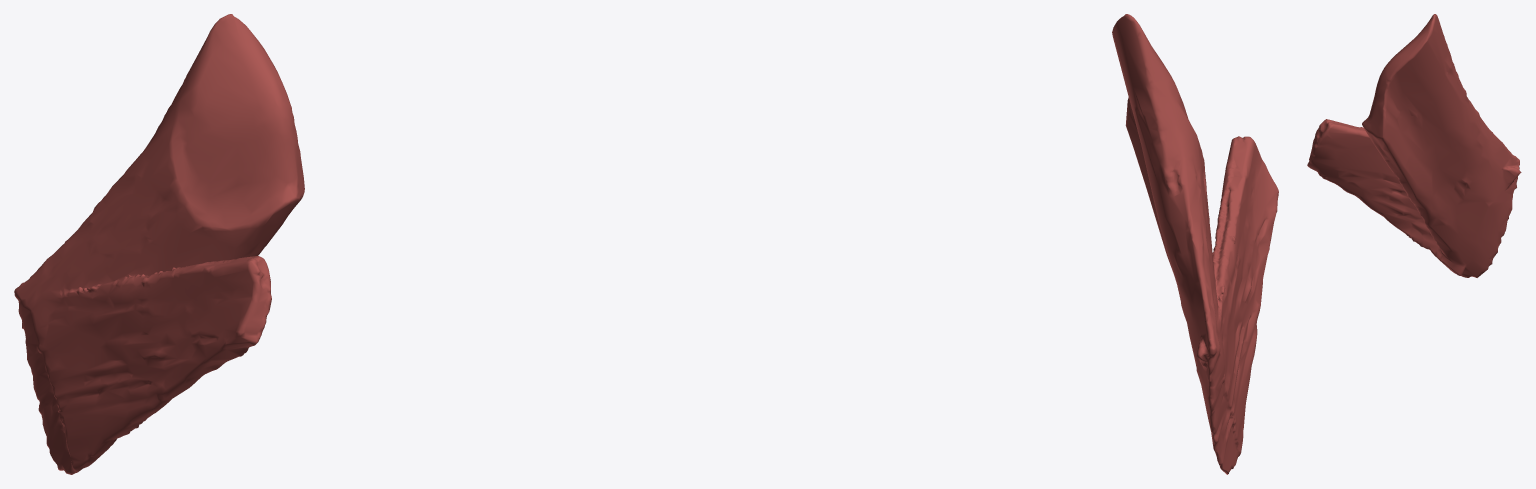
The model's file is FMA49012.glb.
3 renders of one model, left to right at view 1: azimuth 30°, elevation 25°; view 2: azimuth 150°, elevation 25°; view 3: azimuth 270°, elevation 25°, orthographic. The views are drawn at different scales.
Visible parts, largest first — view 1: FMA49012; view 2: FMA49012; view 3: FMA49012.
Boxes of the visible parts, x1,y1,x2,y2 form: FMA49012: (14,14,304,474); FMA49012: (1112,14,1278,474); FMA49012: (1307,14,1521,277).
Size of the model in its own units: 0.0683 by 0.0477 by 0.0298.
